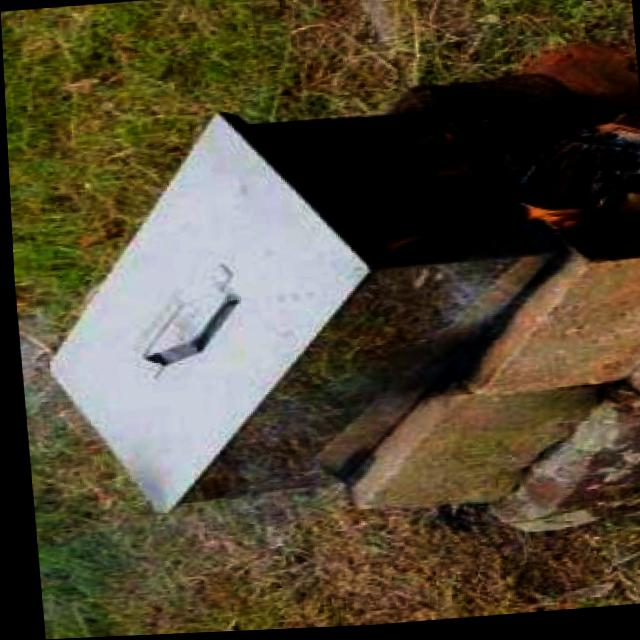Fire: (494, 181, 640, 250), (402, 112, 494, 203)
